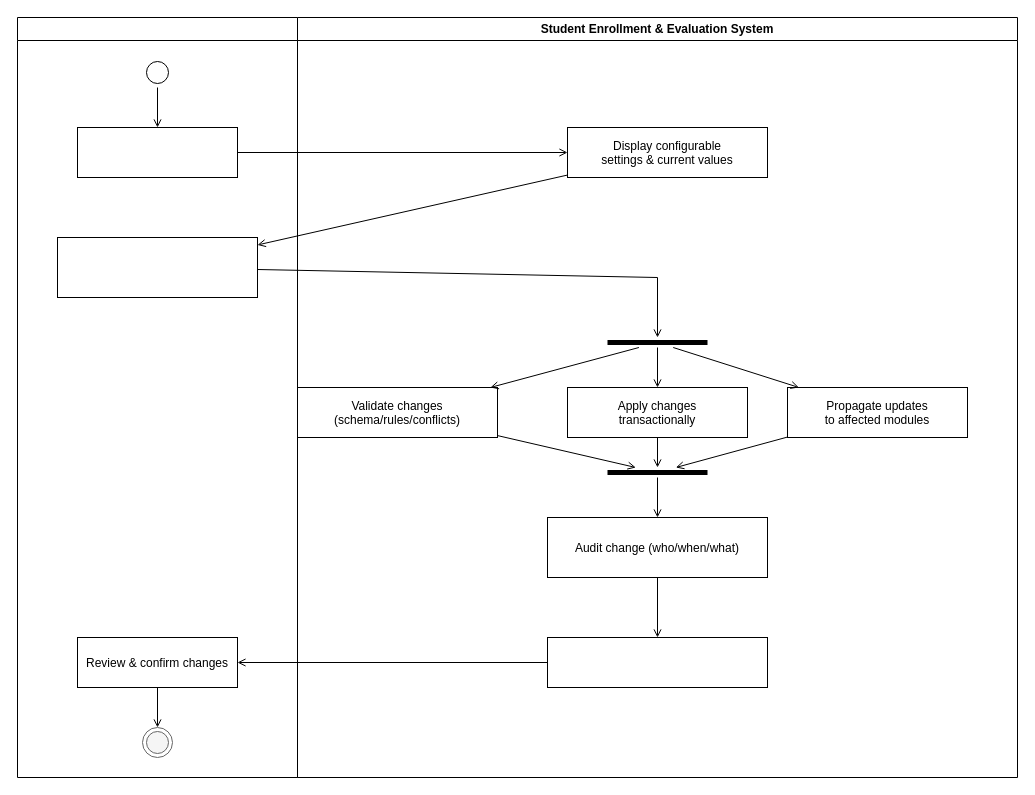
Image size: 1035x795. Some labels were removed from this diagram. Each missing label, with the box of its shape:
Notify UI sessions to refresh config: (546, 636, 768, 688)
Open configuration management: (76, 126, 238, 178)
Select master data to be changed: (56, 236, 258, 298)
System Administrator: (16, 16, 298, 778)
